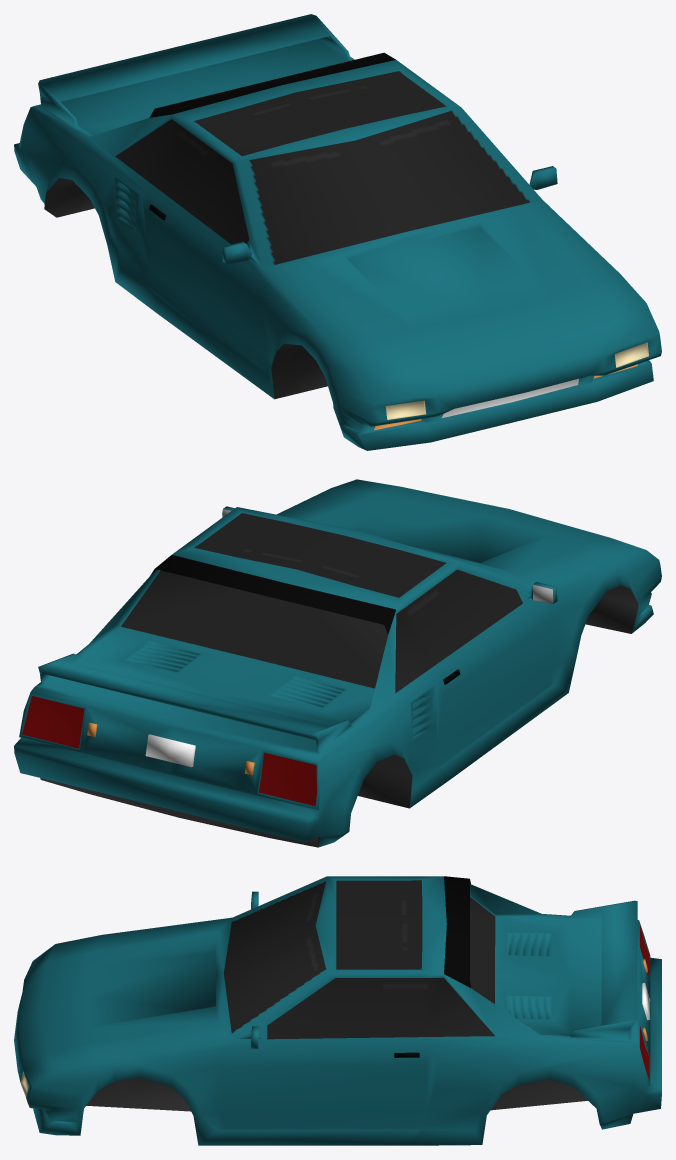
The model's file is toyota mr2.fbx.
3 views of the same model, one above another, from view 1: azimuth 30°, elevation 25°; view 2: azimuth 150°, elevation 25°; view 3: azimuth 270°, elevation 25° (orthographic). The views are drawn at different scales.
Parts seen in each view (by area): view 1: toyota mr2 mesh; view 2: toyota mr2 mesh; view 3: toyota mr2 mesh.
Part boxes in pixels (left/top/right/bottom): toyota mr2 mesh: left=14, top=14, right=661, bottom=450; toyota mr2 mesh: left=14, top=479, right=661, bottom=847; toyota mr2 mesh: left=14, top=876, right=661, bottom=1145.
Size of the model in its own units: 3.17 by 1.63 by 5.98.
